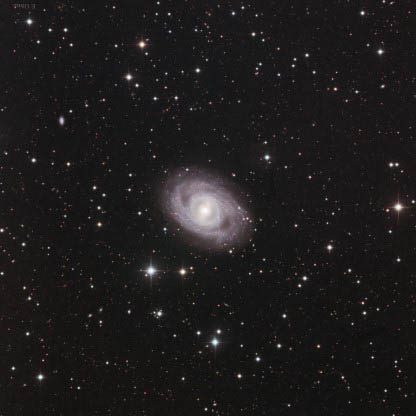Messier 95: (144, 142, 257, 261)
